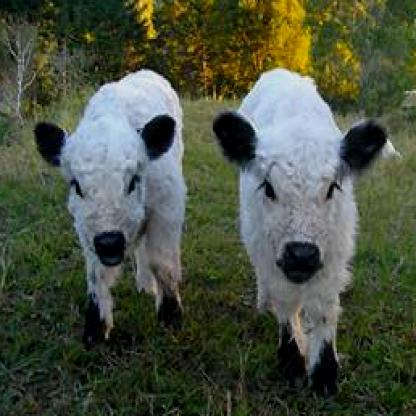cow: (212, 69, 388, 396), (34, 69, 184, 345)
